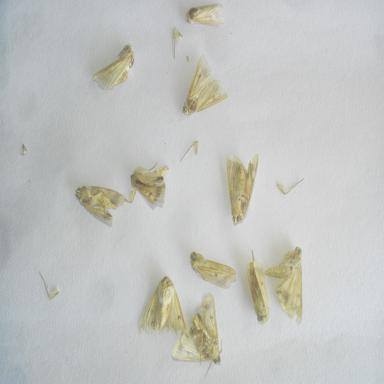abw: (168, 288, 228, 375), (261, 241, 308, 328), (178, 51, 232, 120), (142, 272, 189, 338), (69, 179, 129, 230), (224, 149, 262, 229), (125, 160, 176, 215), (242, 249, 277, 326), (90, 39, 137, 93), (186, 248, 240, 292), (184, 0, 230, 34)
